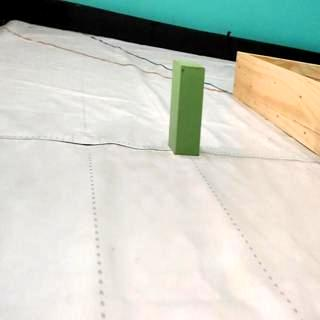greenbox: (170, 59, 206, 155)
